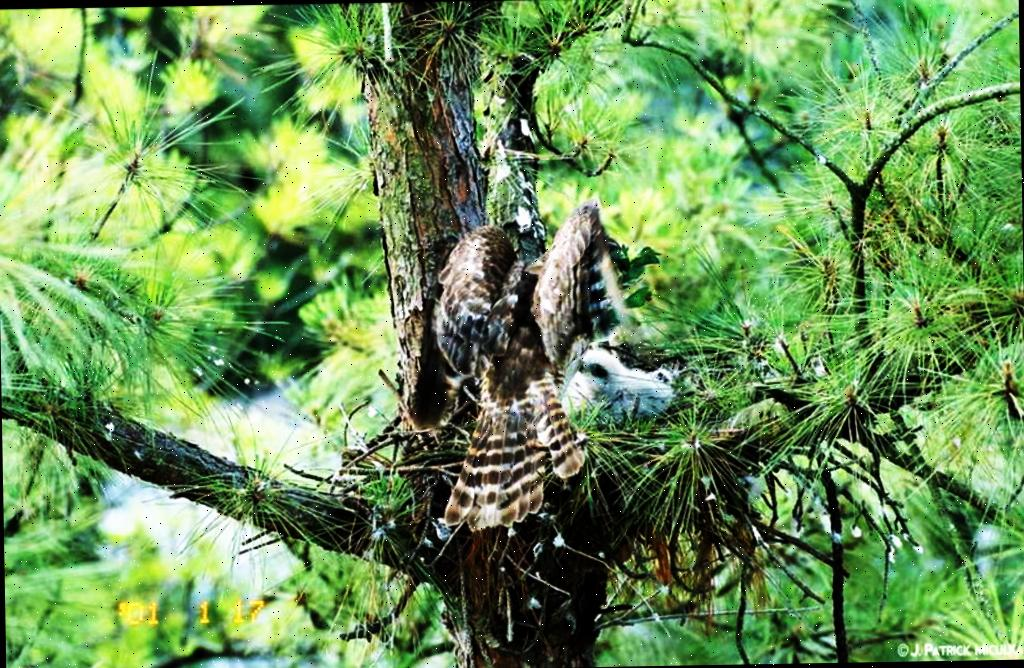Owl: (408, 199, 630, 538)
